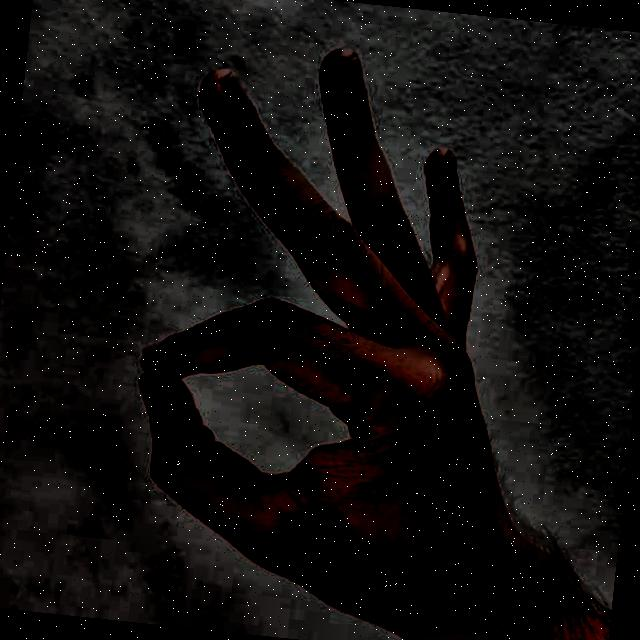Ca: (88, 12, 626, 640)
